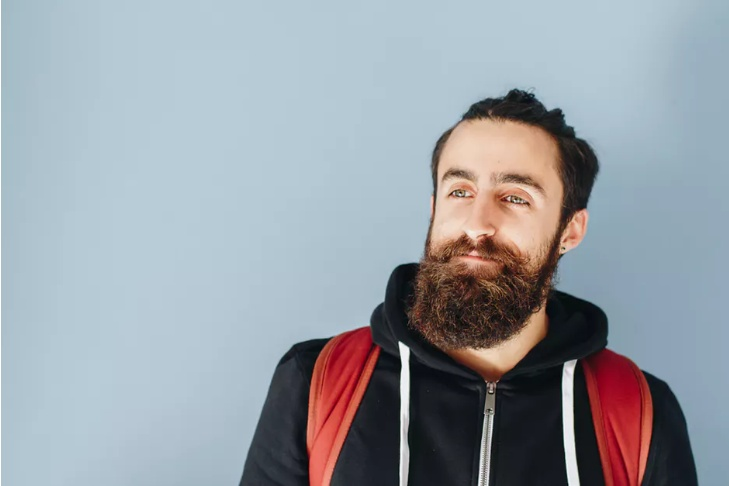face: (430, 120, 562, 315)
